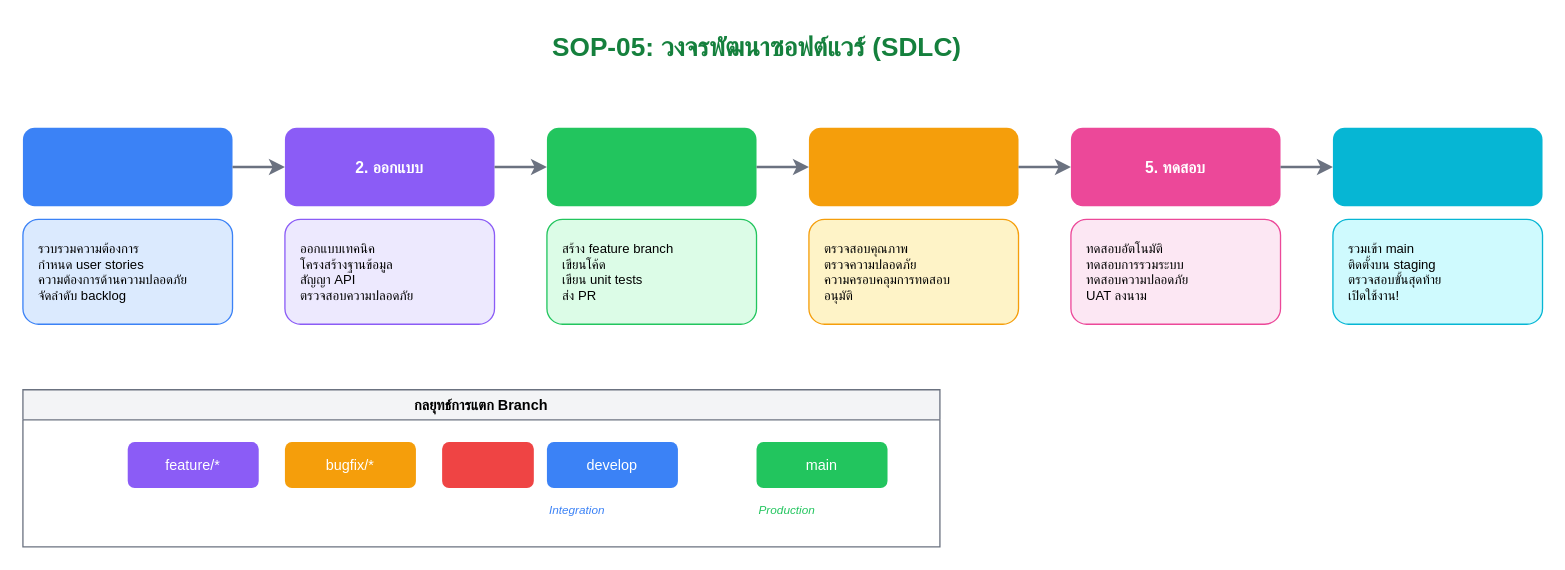
Some shapes in this 1565 by 570 pixel diagram are drawn without their labels. Here are the shapes that lost their labels. From the top down, the centre of each, then its label:
At [127,166]: "1. วิเคราะห์ความต้องการ".
At [651,166]: "3. พัฒนา".
At [913,166]: "4. ตรวจสอบโค้ด".
At [1437,166]: "6. ติดตั้ง".
At [487,464]: "hotfix/*".
